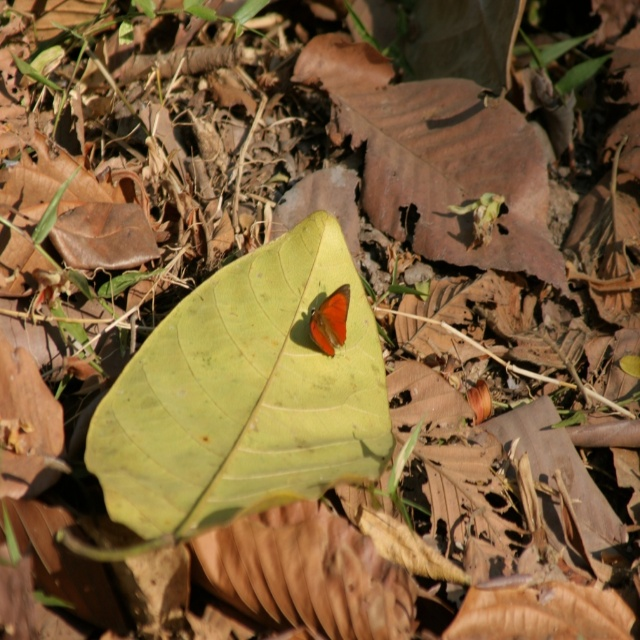Butterfly: (291, 274, 359, 372)
